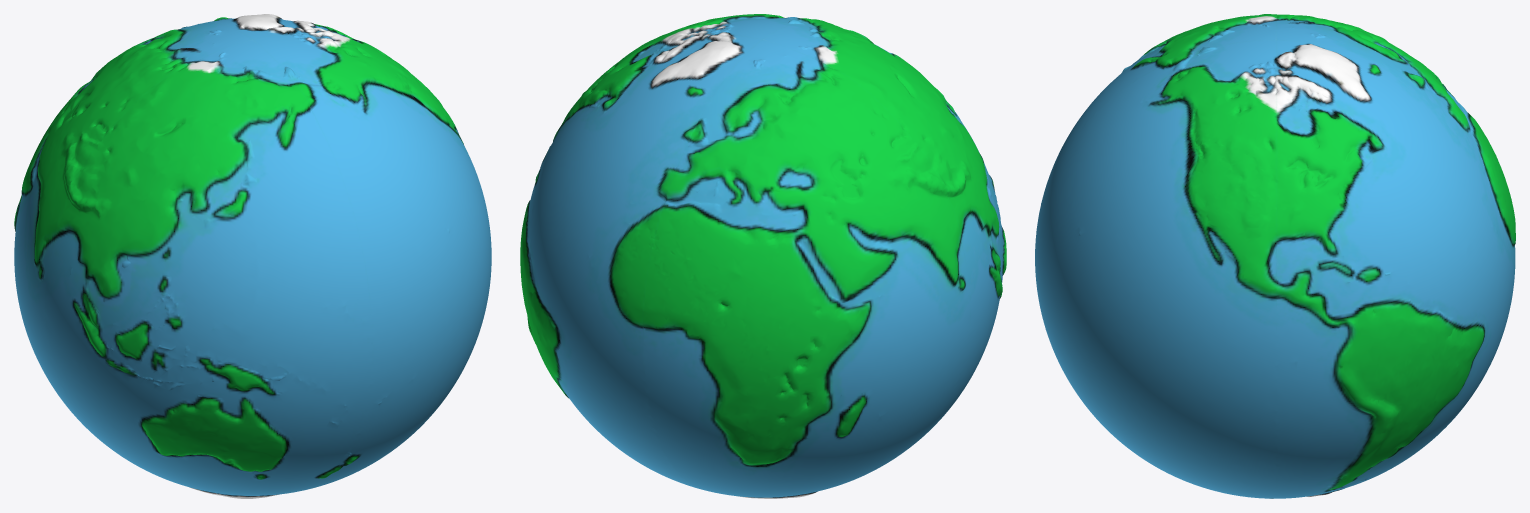
File: 3dEarthModel.fbx
The picture shows the model from 3 angles, left to right: view 1: azimuth 30°, elevation 25°; view 2: azimuth 150°, elevation 25°; view 3: azimuth 270°, elevation 25°; orthographic projection.
Visible parts, largest first — view 1: node_id111; view 2: node_id111; view 3: node_id111.
Part boxes in pixels (x1,y1,x2,y2): node_id111: (14,14,491,498); node_id111: (520,14,1006,498); node_id111: (1035,14,1515,498).
Bounding box in the file's own units: 0.5027 × 0.512 × 0.5033.
Materials: 1 (1 with a texture image).
